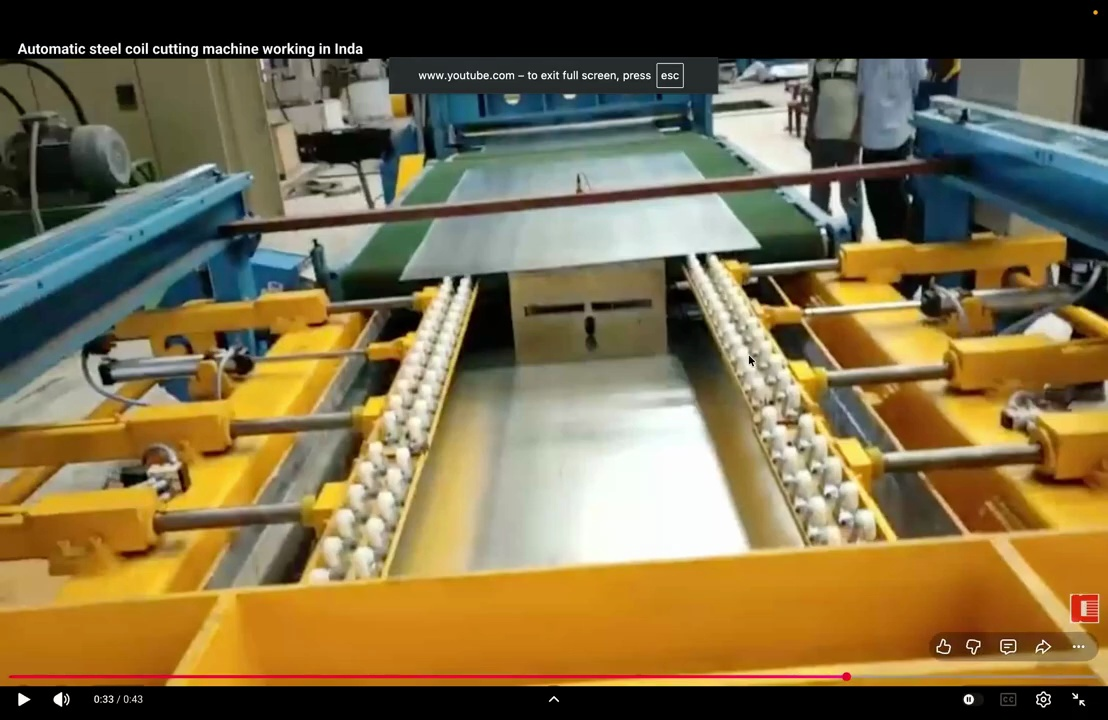steel plate: (401, 195, 759, 280), (481, 126, 662, 151)
